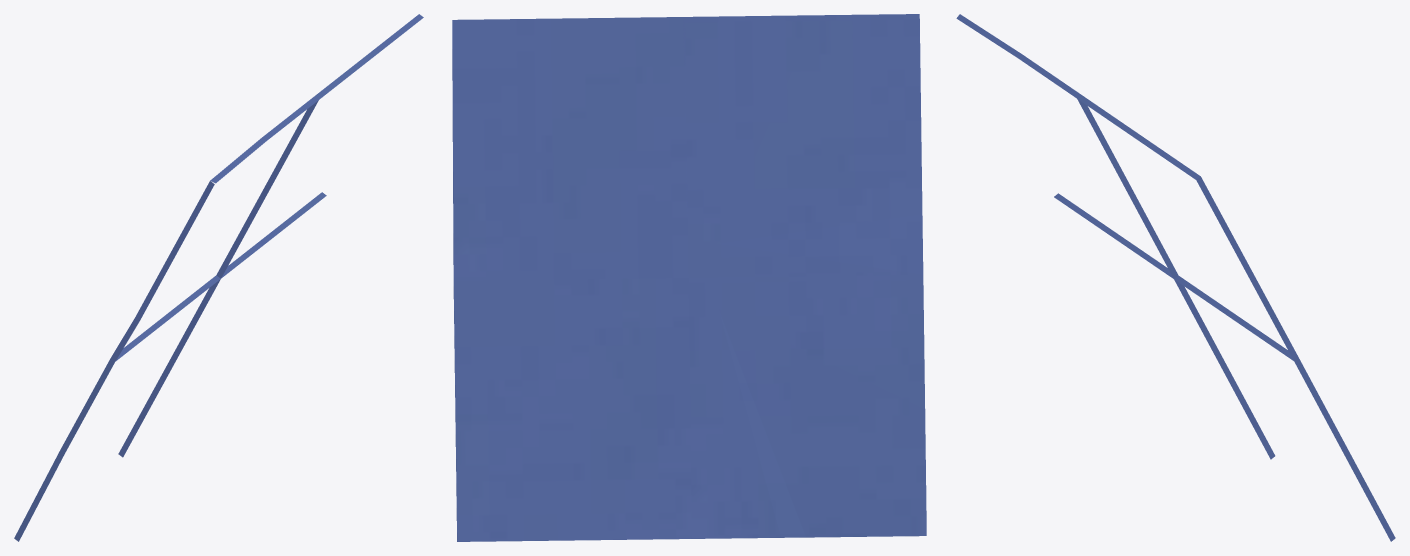
3 views of the same model, side by side, from view 1: azimuth 30°, elevation 25°; view 2: azimuth 150°, elevation 25°; view 3: azimuth 270°, elevation 25° (orthographic). The views are drawn at different scales.
Size of the model in its own units: 19636 by 17670 by 16996.
Materials: 1 (1 with a texture image).
